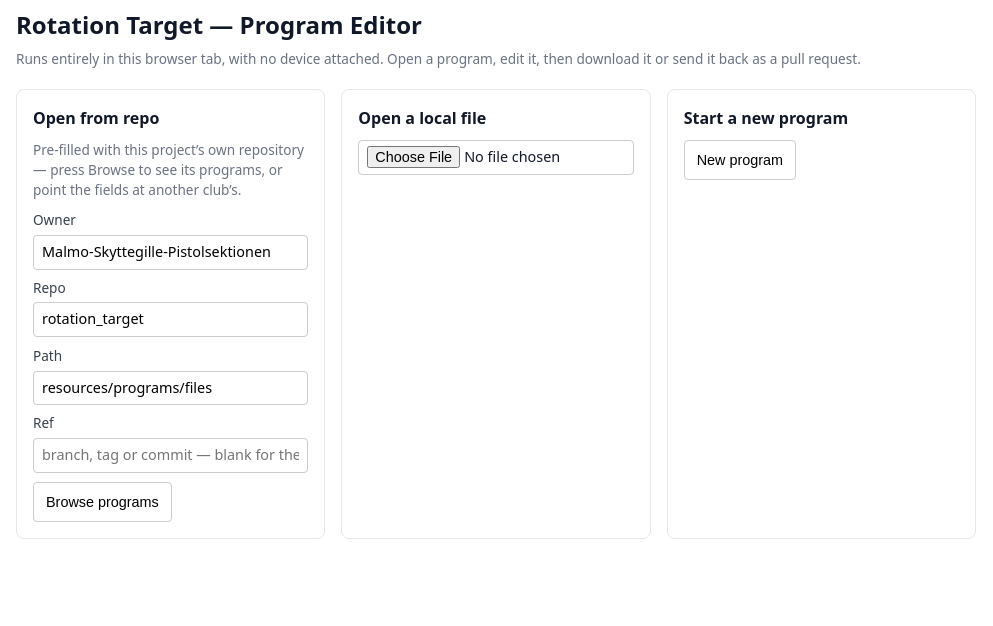
Test: the picker › upgrades each row from its filename to its title as the titles arrive
Expected: the element with test id "picker-new" is shown, [667,89,976,539]
Click the button with test id "picker-repo-browse" at coordinates (102, 502), box [33,482,172,522]
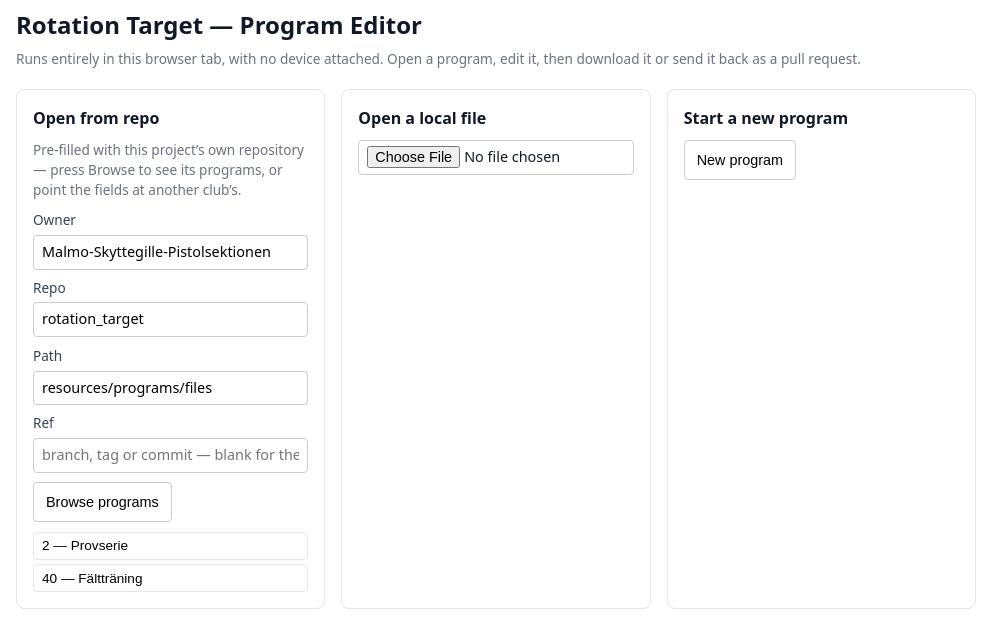
Result: the button with test id "picker-repo-file-2.json" reads "2 — Provserie" at [33,532,308,560]
Result: the button with test id "picker-repo-file-40.json" reads "40 — Fältträning" at [33,564,308,592]
